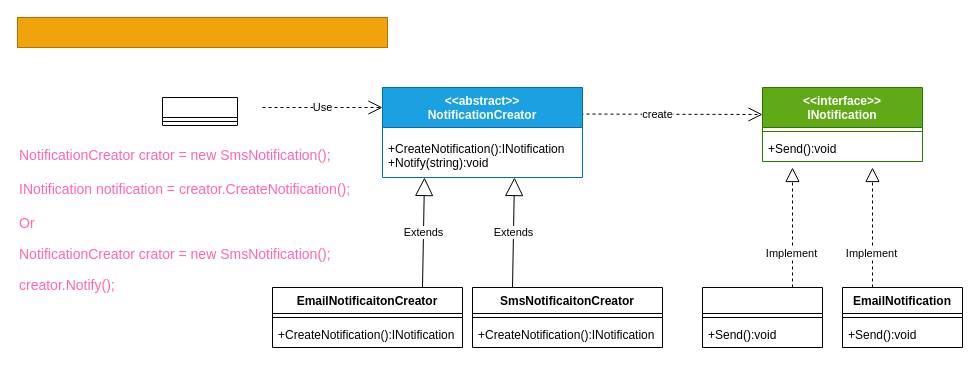
Some shapes in this 980 by 368 pixel diagram are drawn without their labels. Here are the shapes that lost their labels. From the top down, the box of each, then its label:
(16, 16, 388, 48): Factory Method Design Pattern
(162, 96, 238, 126): Client
(702, 286, 822, 348): SmsNotification
